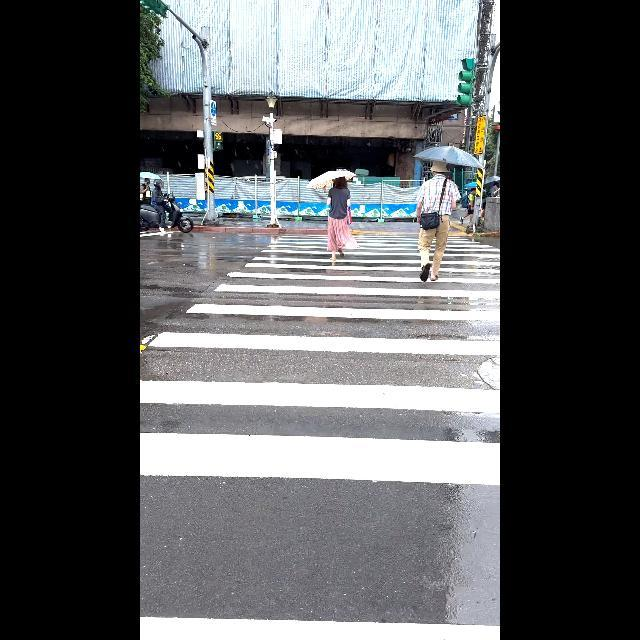sidewalk: (141, 231, 500, 640)
